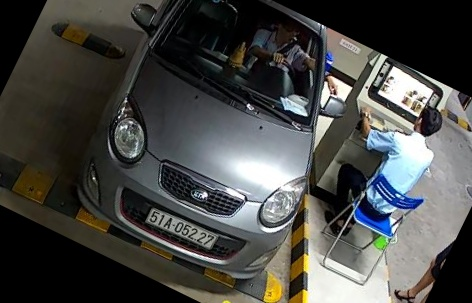plate: (144, 203, 218, 251)
